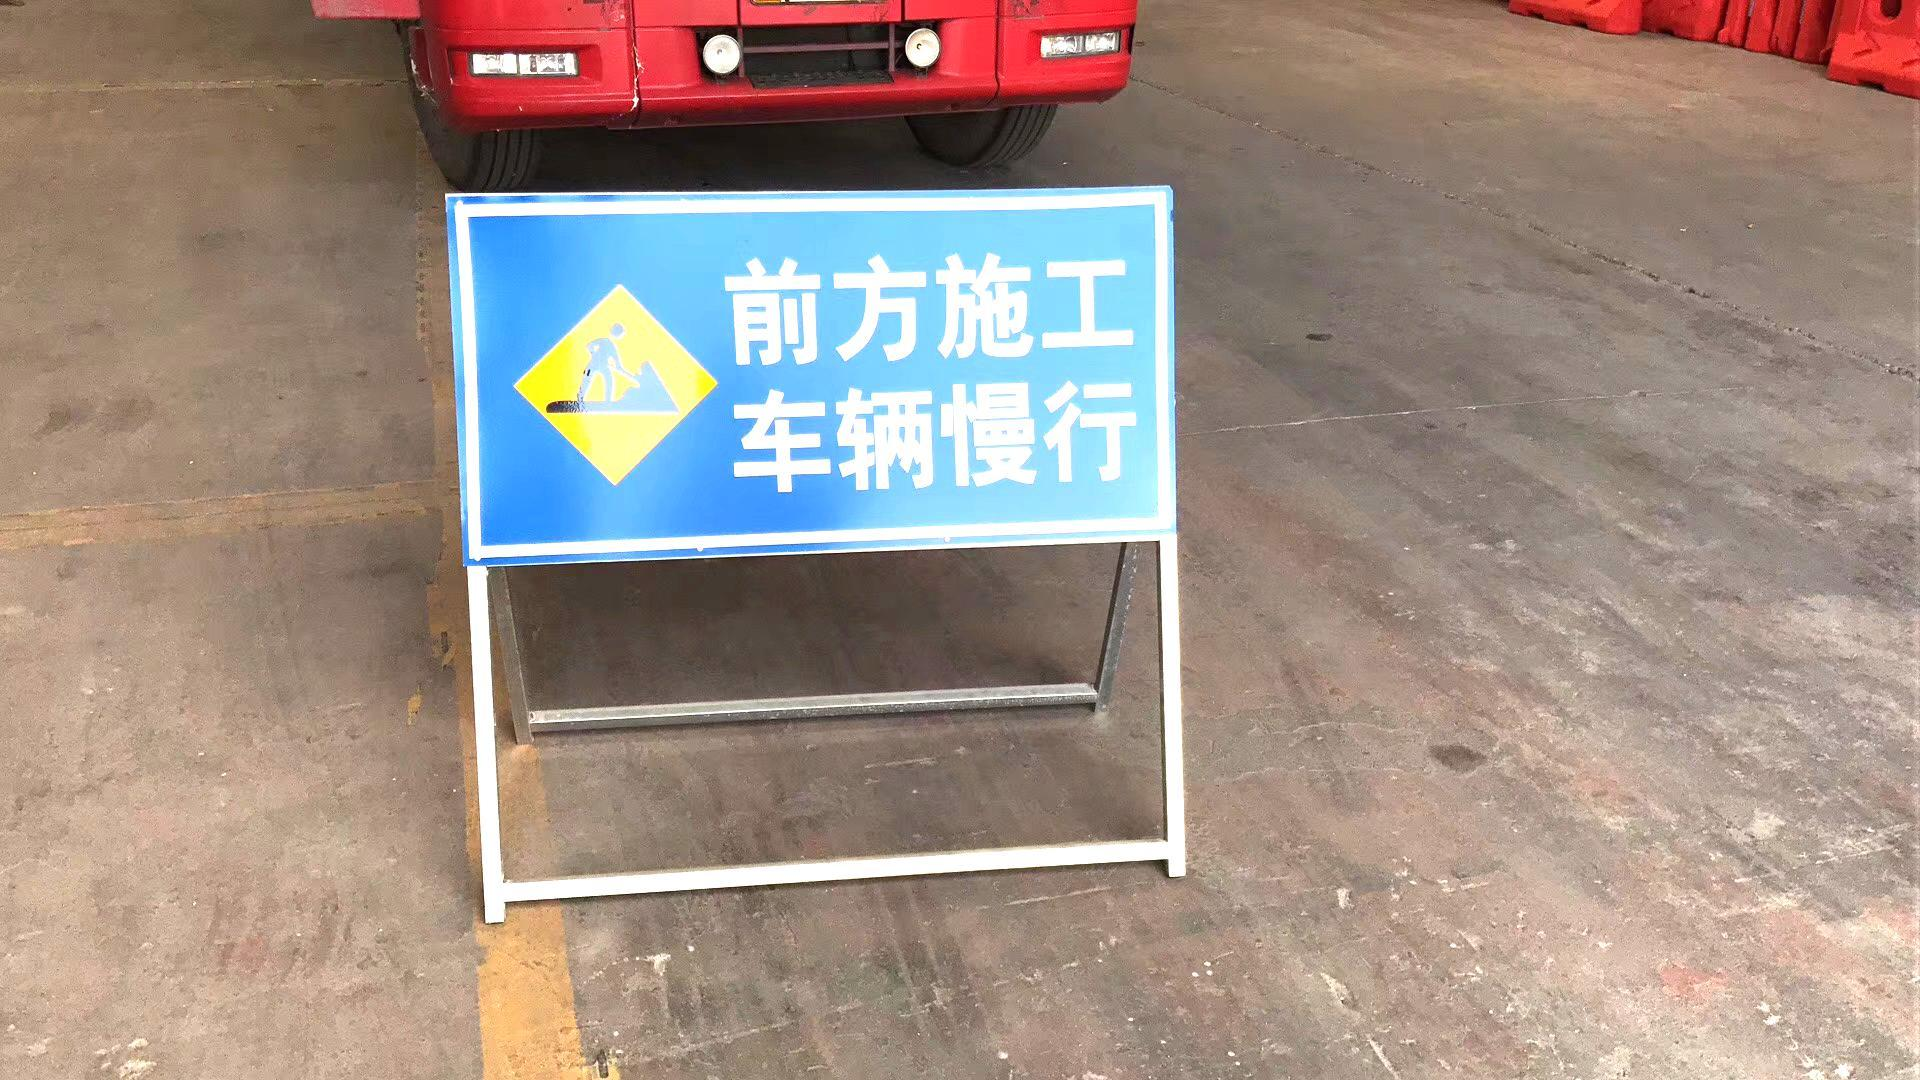sign: (448, 189, 1187, 543)
